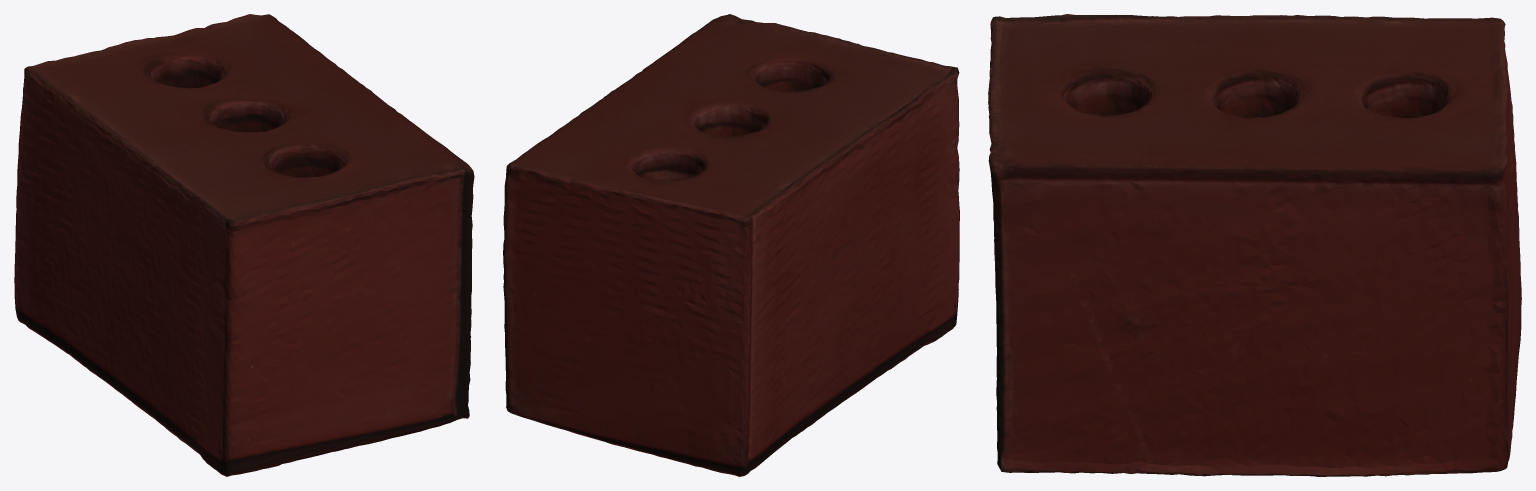
The model's file is foam.glb.
The picture shows the model from 3 angles, left to right: view 1: azimuth 30°, elevation 25°; view 2: azimuth 150°, elevation 25°; view 3: azimuth 270°, elevation 25°; orthographic projection. The views are drawn at different scales.
Parts seen in each view (by area): view 1: 061_foam_brick_textured.obj; view 2: 061_foam_brick_textured.obj; view 3: 061_foam_brick_textured.obj.
Part boxes in pixels (x1,y1,x2,y2): 061_foam_brick_textured.obj: [14, 14, 474, 476]; 061_foam_brick_textured.obj: [503, 14, 959, 476]; 061_foam_brick_textured.obj: [988, 14, 1521, 476].
Size of the model in its own units: 0.0526 by 0.0512 by 0.0779.
1 material, 1 textured.
